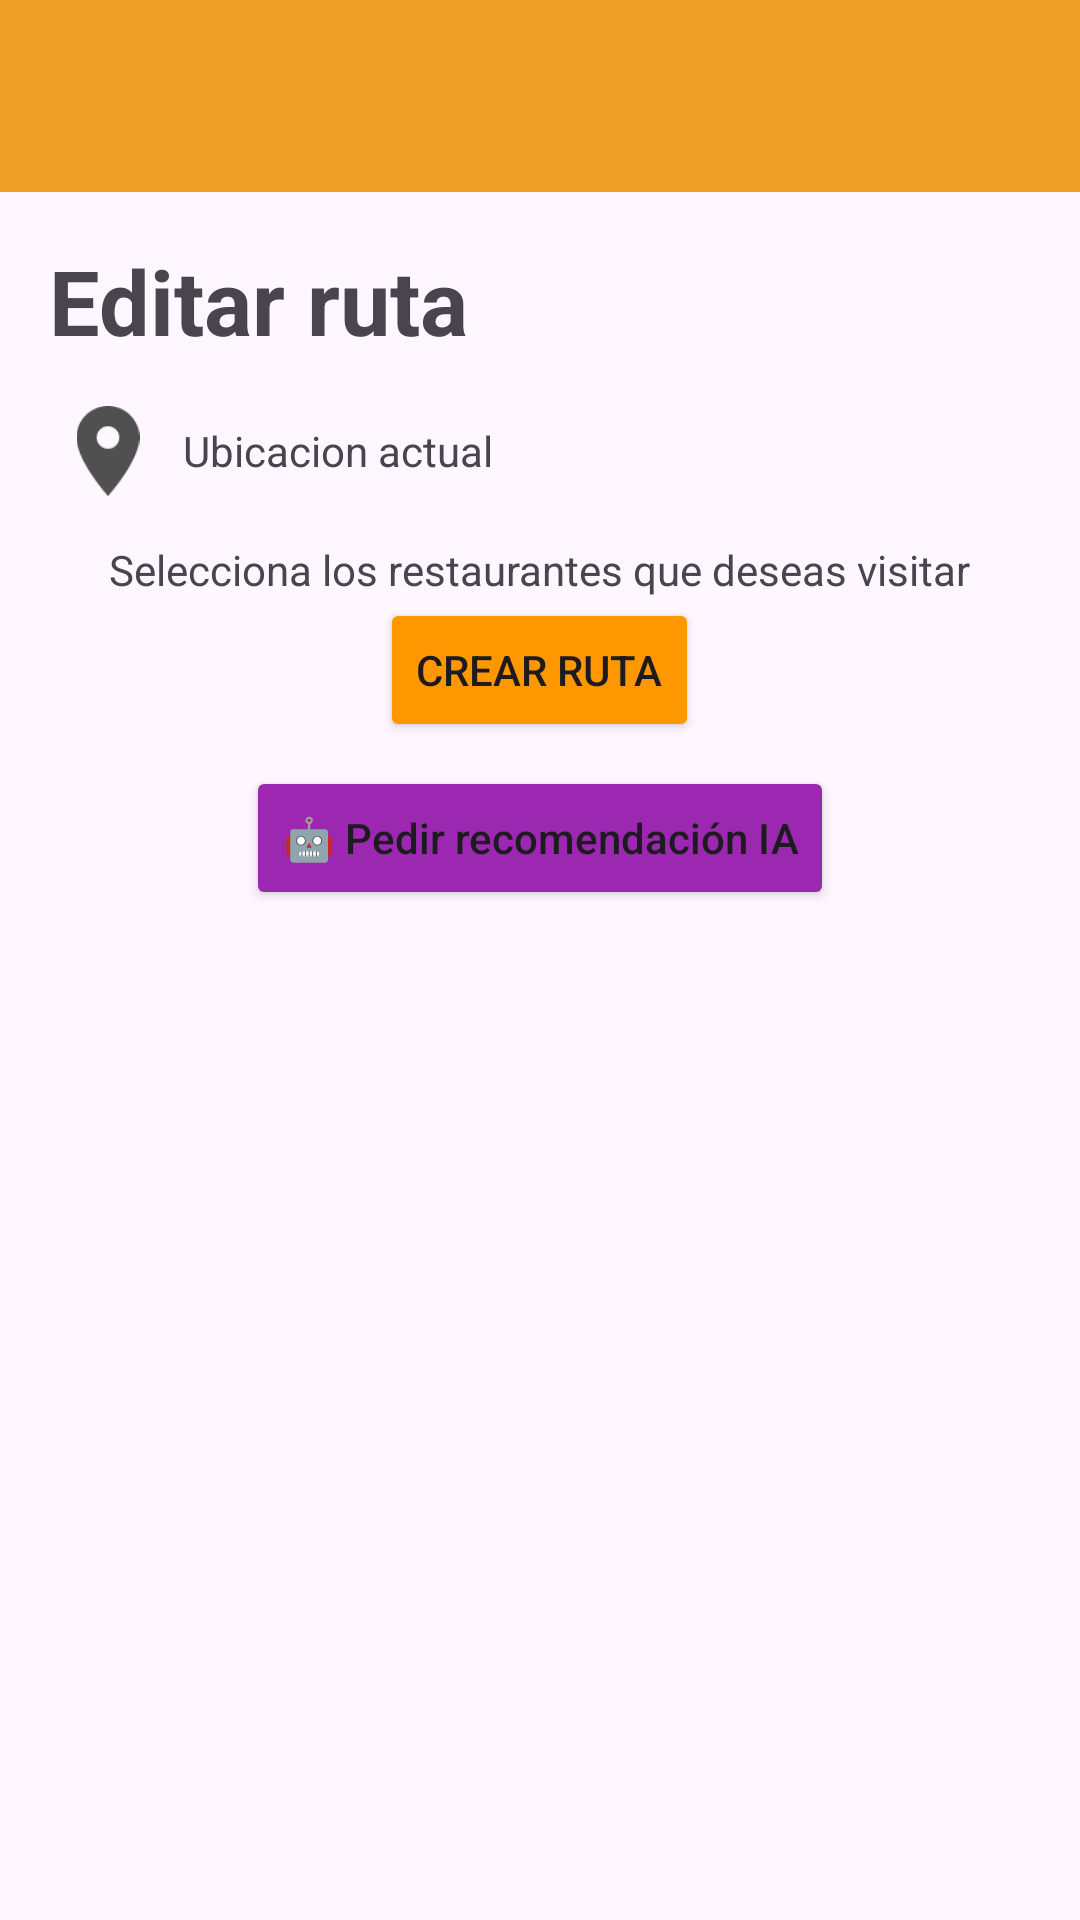

Icons on this 1080*1920 Android screen, each with the point to tap as (x,y):
locationicon: (108,451)
